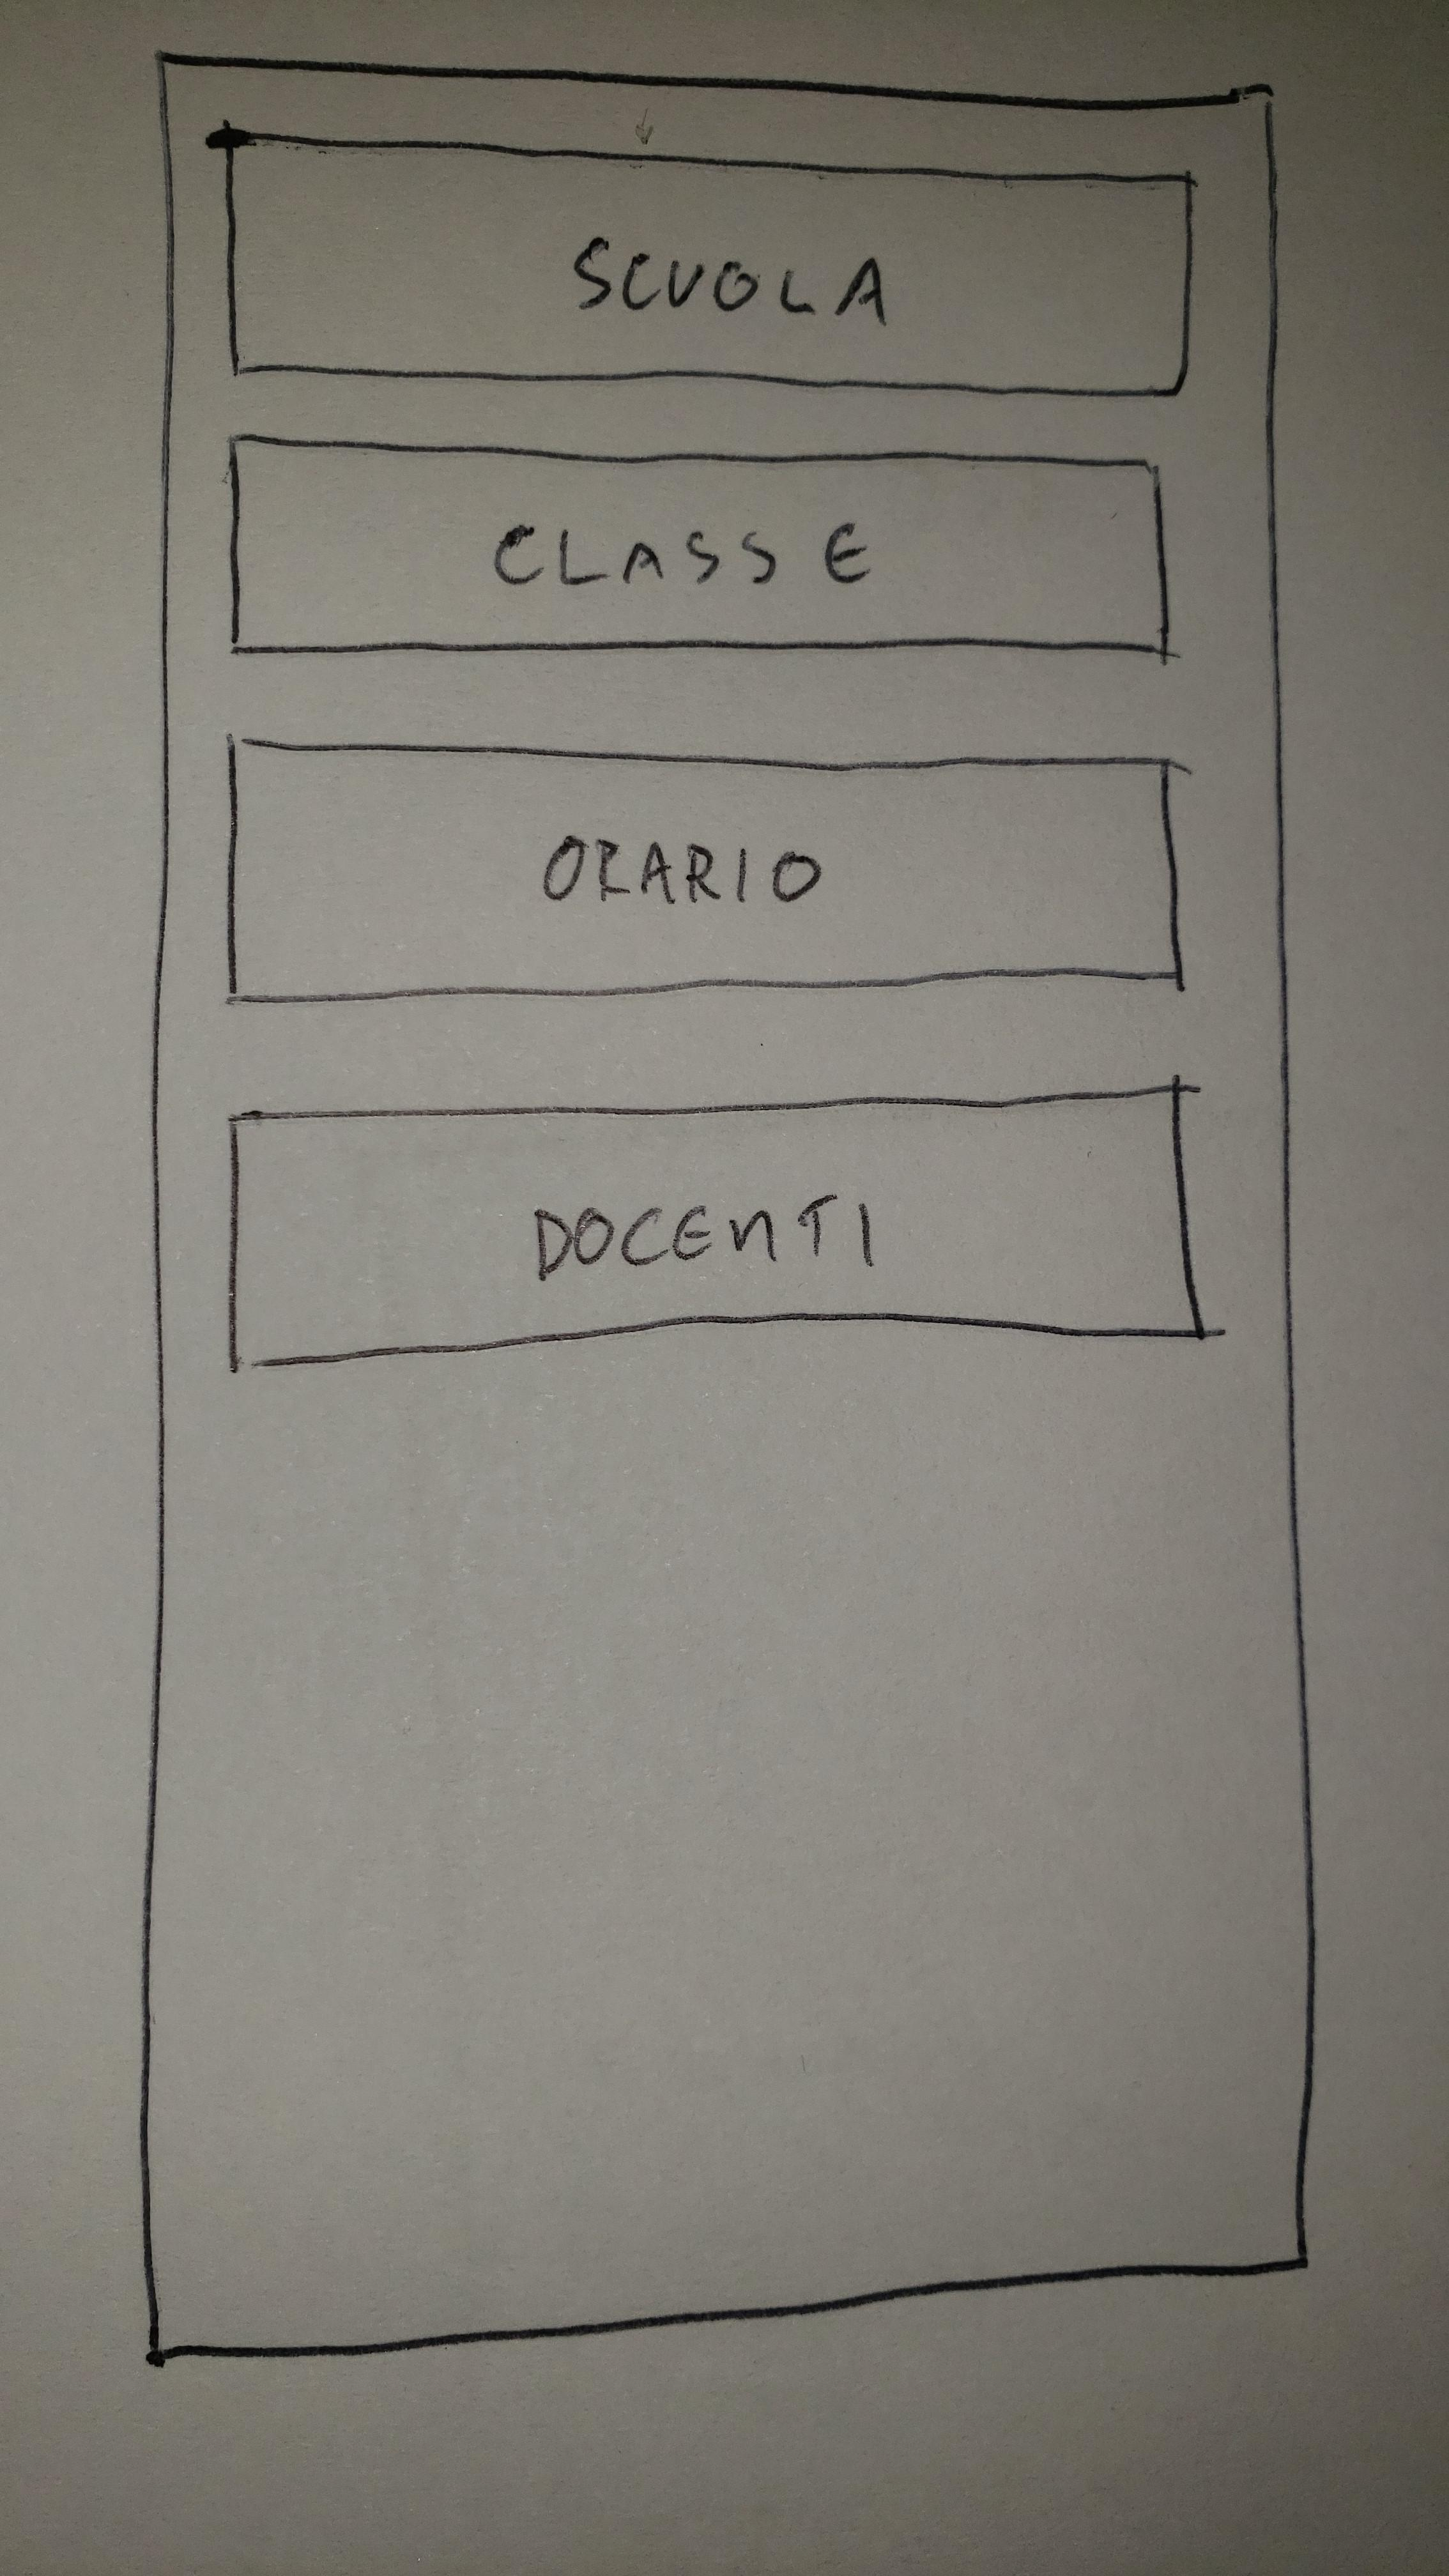Button: (228, 1085, 1203, 1369), (221, 124, 1194, 398), (226, 736, 1185, 1003), (226, 432, 1171, 656)
Screen: (140, 51, 1316, 2365)
